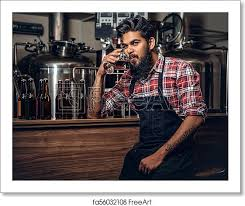Indian_Male: (116, 32, 149, 78)
